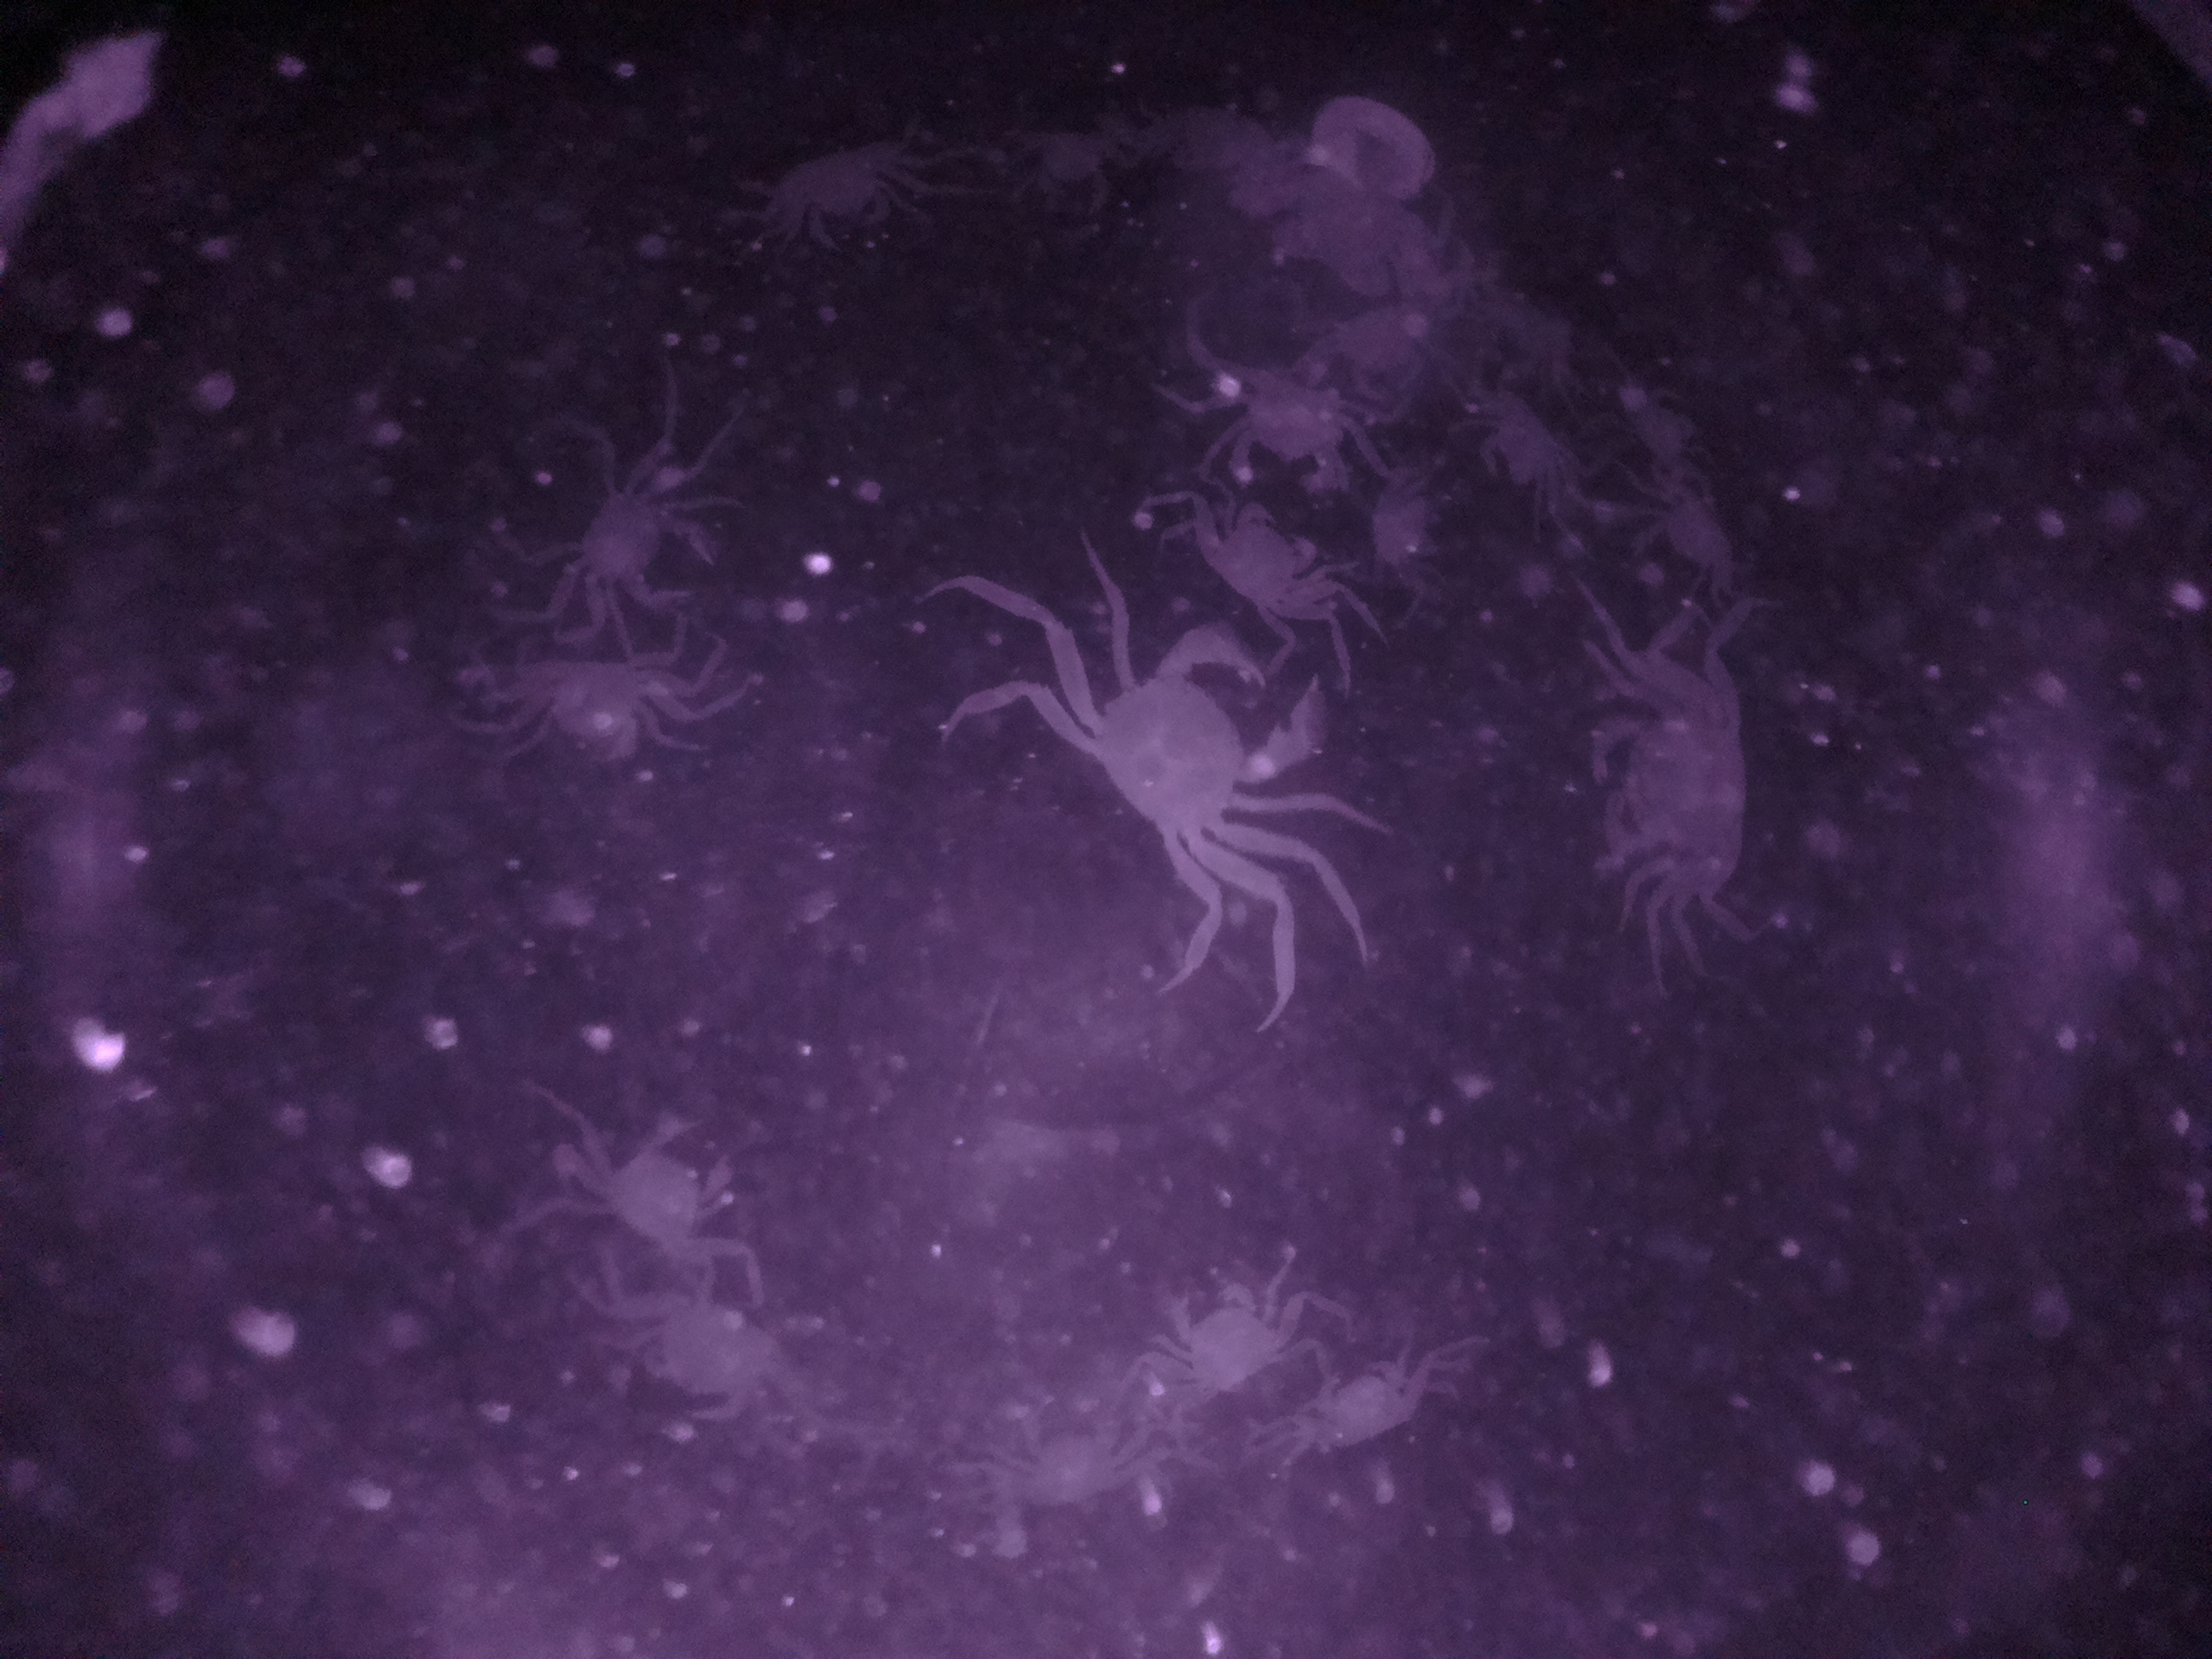Crab: (1022, 627, 1332, 880), (1585, 652, 1754, 922), (570, 432, 728, 636), (496, 648, 698, 786), (752, 118, 935, 261), (1143, 1272, 1315, 1406), (1181, 502, 1339, 619)
